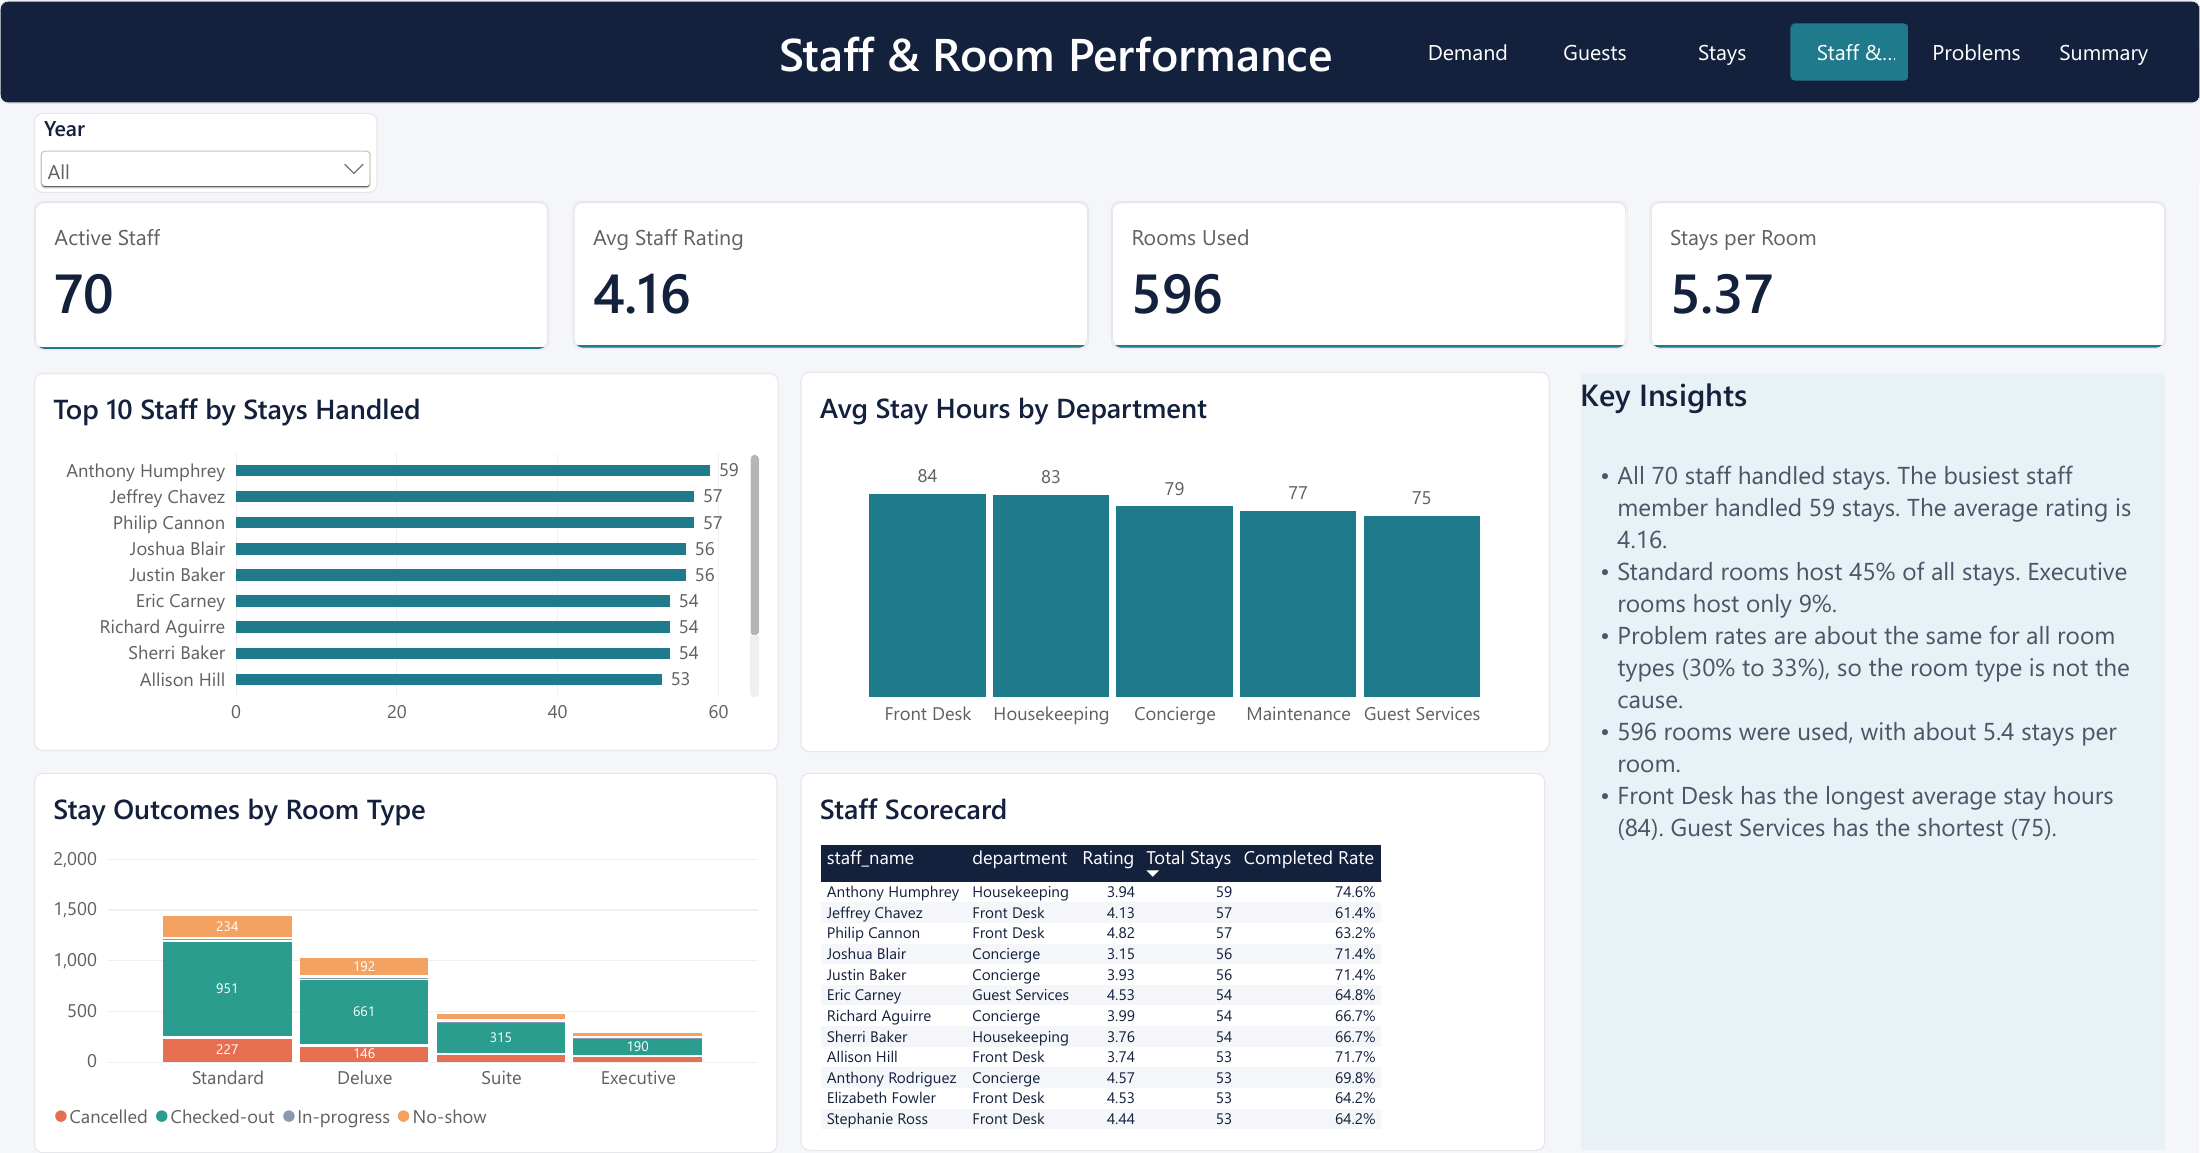

Layout of this report page (visuals, bound fields, positions):
{"tool":"powerbi","page":{"name":"Staff & Rooms","canvas":[1920,1080],"ordinal":3},"visuals":[{"type":"shape","box":[0,0,1920.7,90],"z":0},{"type":"textbox","title":"Staff & Room Performance","box":[31,19.1,1782.3,52.5],"z":1000},{"type":"pageNavigator","box":[1230,20,660,50],"z":2000},{"type":"cardVisual","fields":{"Data":["_Measures.Active Staff"]},"box":[30,175,450,130],"z":3000},{"type":"cardVisual","fields":{"Data":["_Measures.Avg Staff Rating"]},"box":[500,175,450.9,128.8],"z":4000},{"type":"cardVisual","fields":{"Data":["_Measures.Rooms Used"]},"box":[970,175,450.9,128.8],"z":5000},{"type":"cardVisual","fields":{"Data":["_Measures.Stays per Room"]},"box":[1440,175,450.9,128.8],"z":6000},{"type":"clusteredBarChart","title":"Top 10 Staff by Stays Handled","fields":{"Category":["staff.staff_name"],"Y":["_Measures.Total Stays"]},"box":[30,325,650,330],"z":7000},{"type":"clusteredColumnChart","title":"Avg Stay Hours by Department","fields":{"Category":["staff.department"],"Y":["_Measures.Avg Stay Hours"]},"box":[699.1,324.5,653.7,331.6],"z":8000},{"type":"columnChart","title":"Stay Outcomes by Room Type","fields":{"Category":["rooms.room_type"],"Series":["stays.status"],"Y":["_Measures.Total Stays"]},"box":[29.9,673.8,648.9,331.9],"z":9000},{"type":"tableEx","title":"Staff Scorecard","fields":{"Values":["staff.staff_name","staff.department","Avg(staff.rating)","_Measures.Total Stays","_Measures.Completed Rate"]},"box":[698.8,673.8,650,330],"z":10000},{"type":"slicer","fields":{"Values":["date_table.Year"]},"box":[30,98,300,70],"z":11000},{"type":"textbox","title":"Key Insights","box":[1380,325,510,678],"z":12000}]}

Visuals, with their boxes on the page's 1920x1080 design canvas (x1, y1, x2, y2). These are canvas units, not pixel positions in the 2200x1153 screenshot, which may show the page scaled, cropped or inside an application window:
shape: <box>0,0,1921,90</box>
"Staff & Room Performance" textbox: <box>31,19,1813,72</box>
pageNavigator: <box>1230,20,1890,70</box>
cardVisual - _Measures.Active Staff: <box>30,175,480,305</box>
cardVisual - _Measures.Avg Staff Rating: <box>500,175,951,304</box>
cardVisual - _Measures.Rooms Used: <box>970,175,1421,304</box>
cardVisual - _Measures.Stays per Room: <box>1440,175,1891,304</box>
"Top 10 Staff by Stays Handled" clusteredBarChart: <box>30,325,680,655</box>
"Avg Stay Hours by Department" clusteredColumnChart: <box>699,324,1353,656</box>
"Stay Outcomes by Room Type" columnChart: <box>30,674,679,1006</box>
"Staff Scorecard" tableEx: <box>699,674,1349,1004</box>
slicer - date_table.Year: <box>30,98,330,168</box>
"Key Insights" textbox: <box>1380,325,1890,1003</box>
